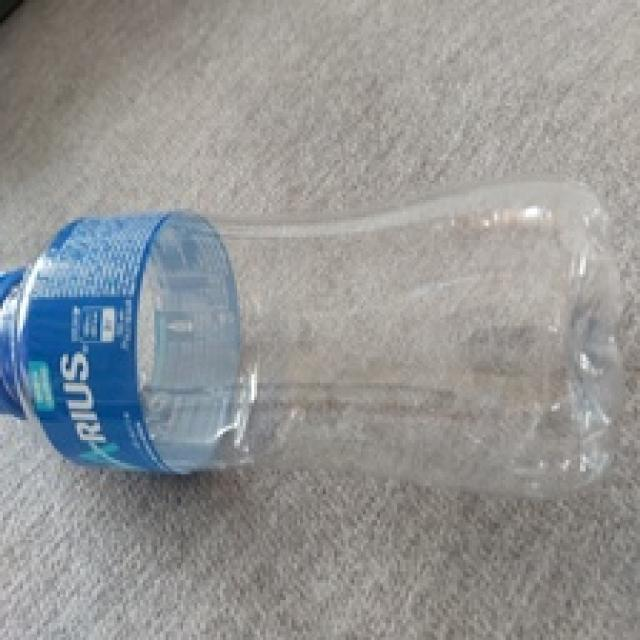Plastic: (0, 175, 628, 480)
